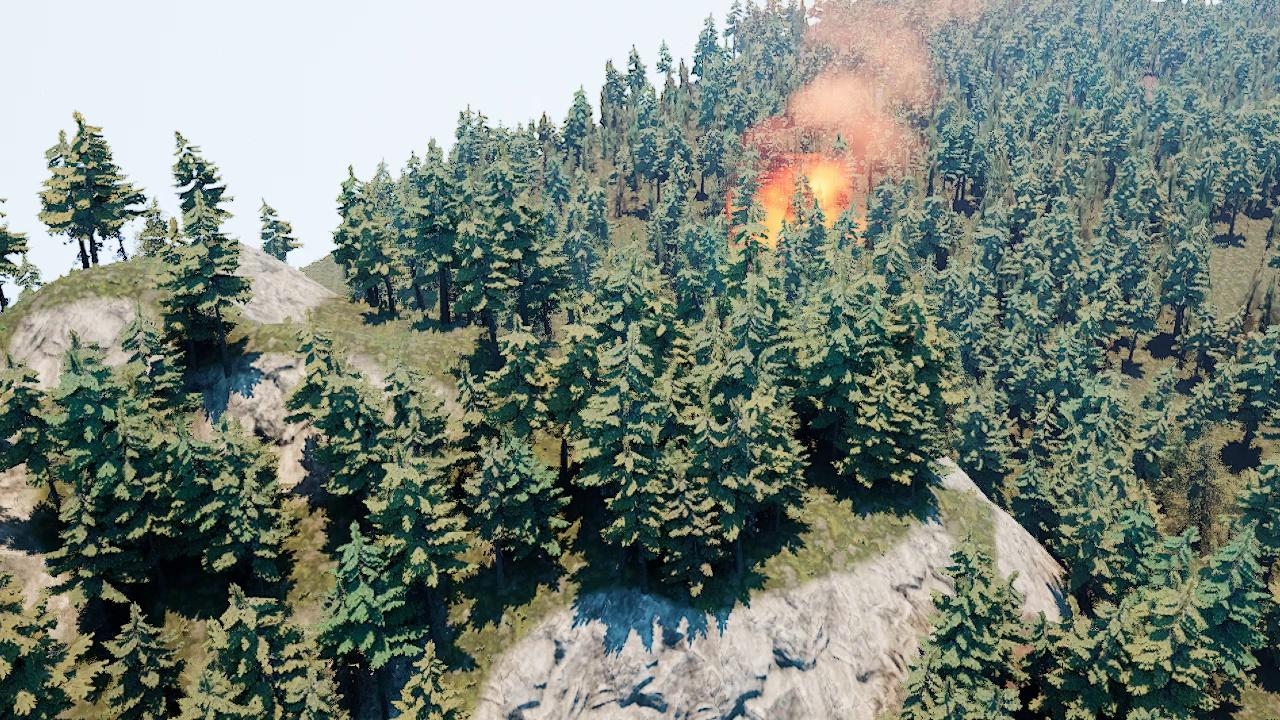fire: (755, 151, 859, 231)
smoke: (742, 3, 948, 198)
